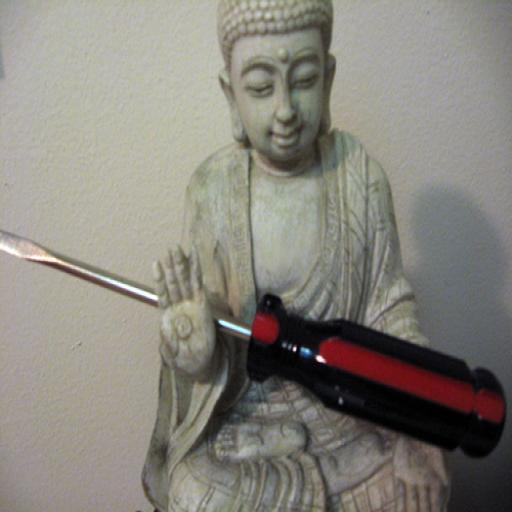screwdriver: (1, 232, 506, 459)
